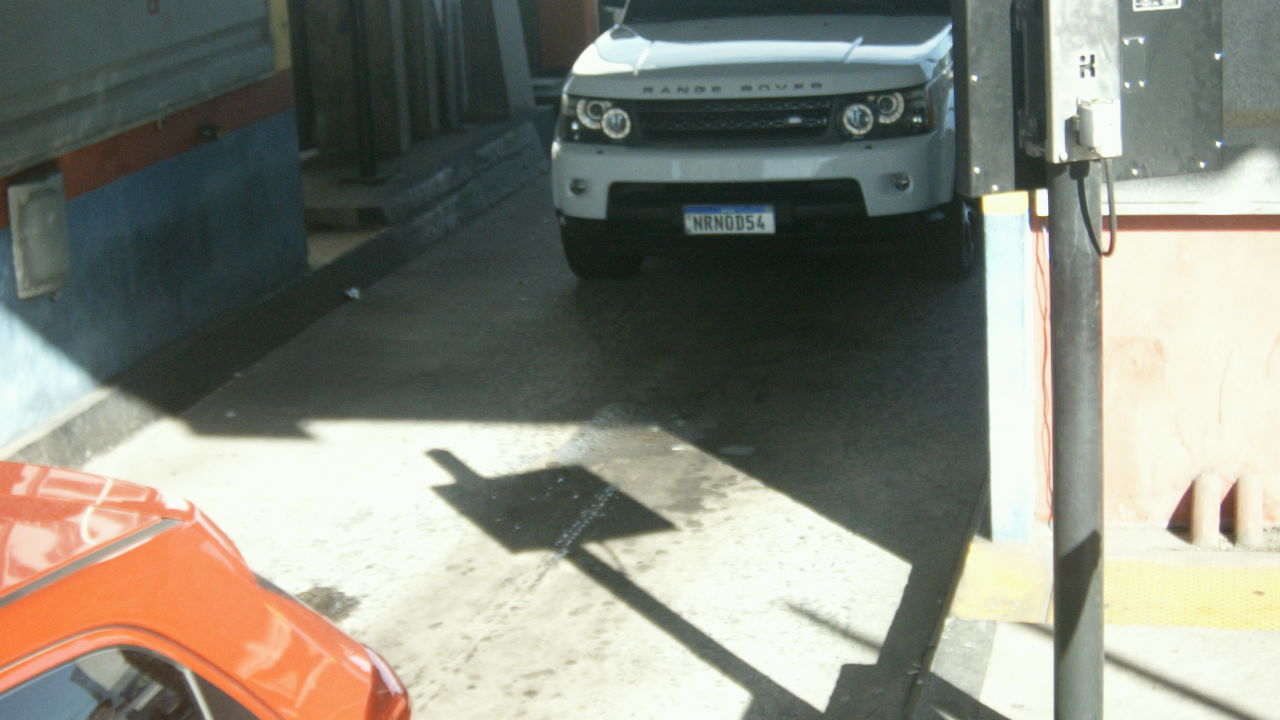placa: (682, 203, 777, 236)
